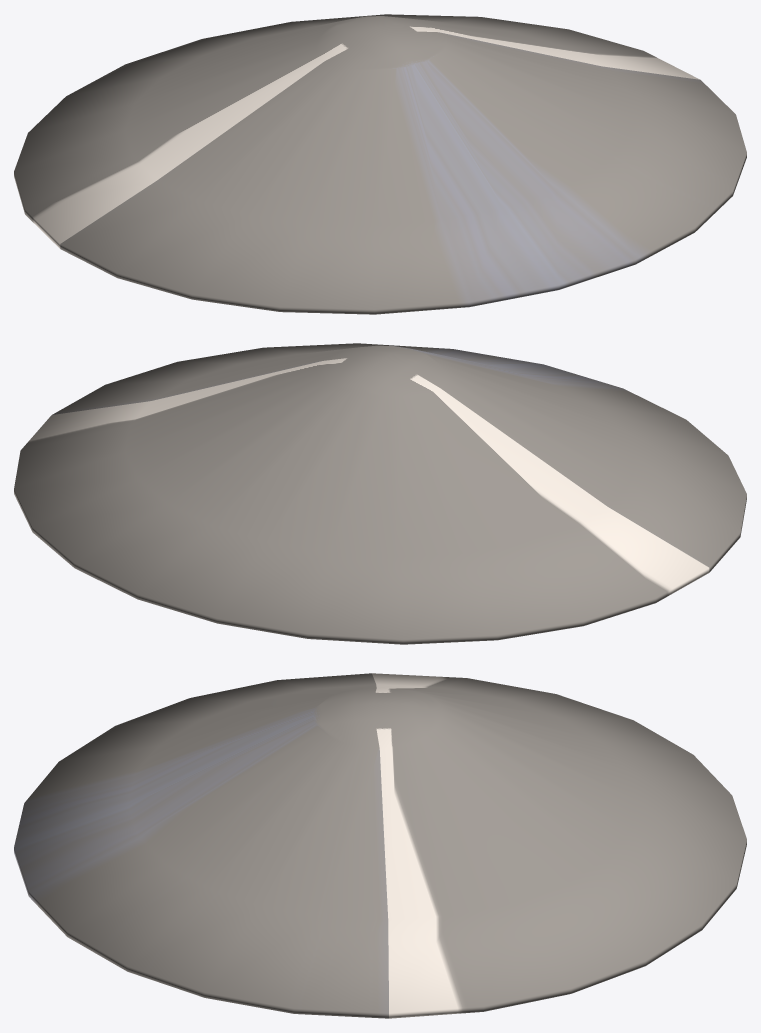
The model's file is kanda ha.fbx.
The picture shows the model from 3 angles, top to bottom: view 1: azimuth 30°, elevation 25°; view 2: azimuth 150°, elevation 25°; view 3: azimuth 270°, elevation 25°; orthographic projection. The views are drawn at different scales.
Parts seen in each view (by area): view 1: hat; view 2: hat; view 3: hat.
Part boxes in pixels (bbox=[...]): hat: bbox=[14, 14, 746, 314]; hat: bbox=[14, 343, 746, 644]; hat: bbox=[14, 673, 746, 1018].
Bounding box in the file's own units: 368 × 335 × 73.33.
1 material, 1 textured.
